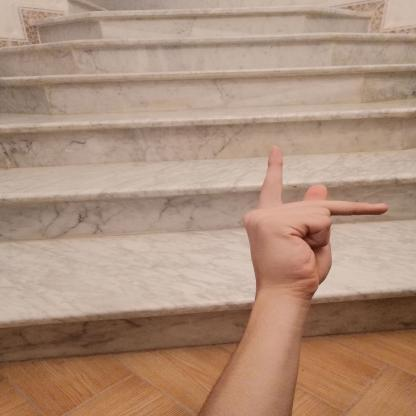DHAA: (234, 138, 396, 306)
